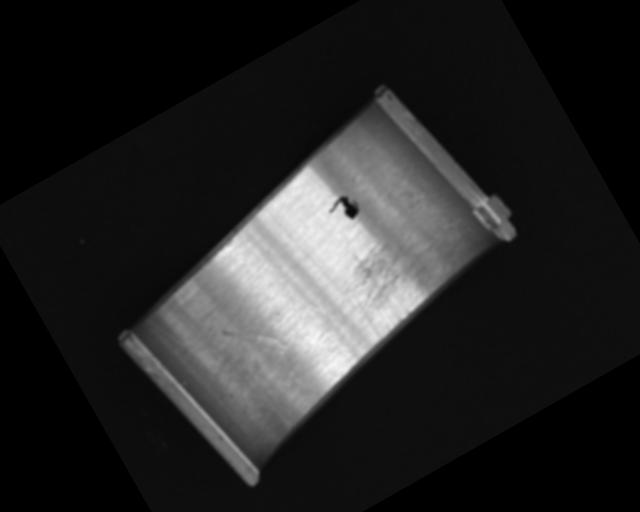blot: (324, 190, 363, 228)
nick: (234, 211, 329, 334), (143, 295, 224, 392), (221, 307, 286, 370), (272, 335, 313, 395)
scratch: (327, 209, 476, 344)
